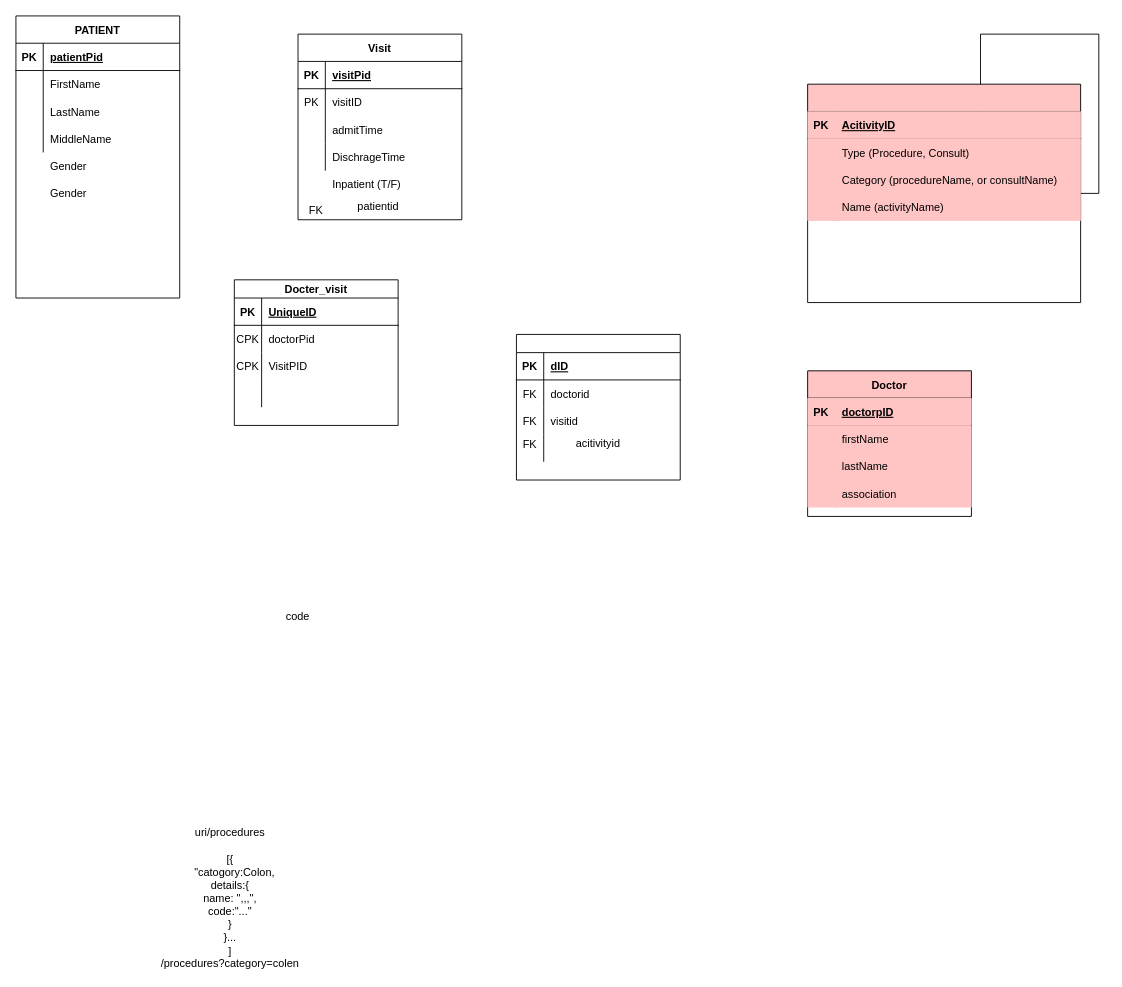
Image size: 1122x987. Some labels were removed from this diagram. The shapes that lost their labels are listed below. From the top down, each one's box as (x1, y1, x2, y2) in pixels, then its label:
(807, 83, 1081, 303): Activities
(516, 334, 680, 480): Doctor_Activity
